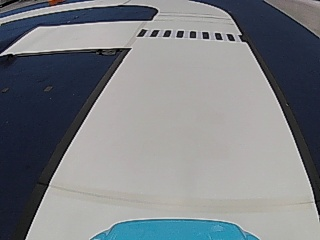CrossWalk: (137, 29, 247, 43)
